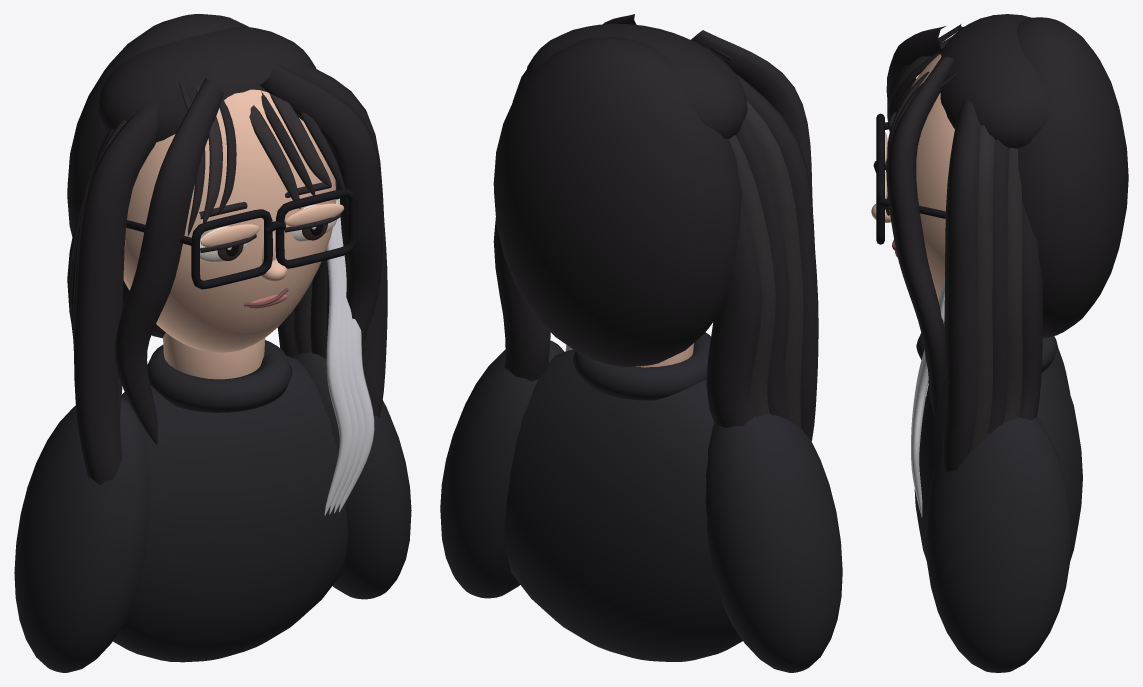
The model's file is sherry-avatar-v1.glb.
The picture shows the model from 3 angles, left to right: view 1: azimuth 30°, elevation 25°; view 2: azimuth 150°, elevation 25°; view 3: azimuth 270°, elevation 25°; orthographic projection. The views are drawn at different scales.
Parts seen in each view (by area): view 1: SweaterTorso, LeftSleeve, Face, LongHair-1_4, FaceFramingHair-1, CrownHair, RightSleeve, FaceFramingHair1, BackHair, RibbedCollar, LongHair1_4, SilverStreak0 (+19 smaller); view 2: BackHair, SweaterTorso, LeftSleeve, RightSleeve, LongHair-1_0, CrownHair, LongHair-1_4, LongHair-1_3, LongHair-1_2, RibbedCollar, LongHair-1_1, LongHair1_0 (+1 smaller); view 3: RightSleeve, BackHair, LongHair1_4, CrownHair, FaceFramingHair1, SweaterTorso, LongHair1_3, Face, LongHair1_2, LongHair1_1, LongHair1_0, FaceFramingHair-1 (+5 smaller).
Part boxes in pixels (x1,y1,x2,y2): SweaterTorso: (113,355,348,662); LeftSleeve: (14,398,149,672); Face: (123,89,336,352); LongHair-1_4: (74,104,158,485); FaceFramingHair-1: (115,78,224,444); CrownHair: (98,26,316,142); RightSleeve: (292,352,411,599); FaceFramingHair1: (259,62,382,345); BackHair: (67,14,248,338); RibbedCollar: (147,340,292,412); LongHair1_4: (302,65,387,416); SilverStreak0: (324,226,352,515); BackHair: (493,36,741,366); SweaterTorso: (504,349,742,661); LeftSleeve: (705,413,842,672); RightSleeve: (440,340,564,598); LongHair-1_0: (706,197,762,427); CrownHair: (525,23,747,138); LongHair-1_4: (732,70,818,441); LongHair-1_3: (744,101,803,428); LongHair-1_2: (735,120,789,419); RibbedCollar: (573,332,710,400); LongHair-1_1: (729,135,775,416); LongHair1_0: (493,217,550,381); RightSleeve: (925,417,1071,672); BackHair: (1016,17,1128,337); LongHair1_4: (942,97,980,472); CrownHair: (940,14,1049,148); FaceFramingHair1: (886,57,955,417); SweaterTorso: (914,358,1082,560); LongHair1_3: (971,125,994,451); Face: (911,54,954,300); LongHair1_2: (988,139,1009,434); LongHair1_1: (1004,147,1022,422); LongHair1_0: (1019,205,1042,420); FaceFramingHair-1: (886,26,945,112).
Bounding box in the file's own units: 1.82 × 2.88 × 1.13.
